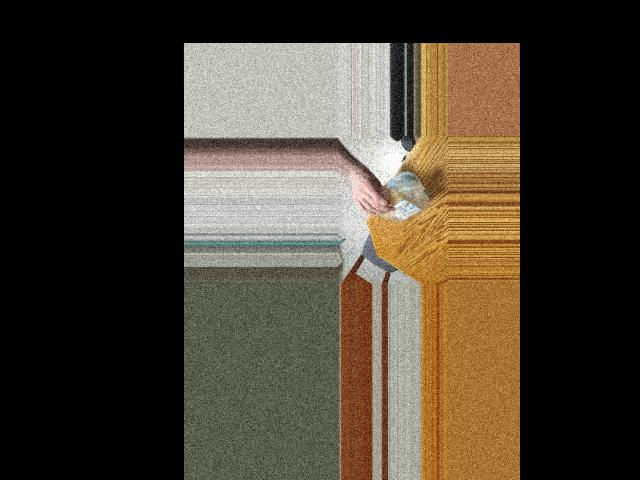cheese: (365, 172, 431, 225)
